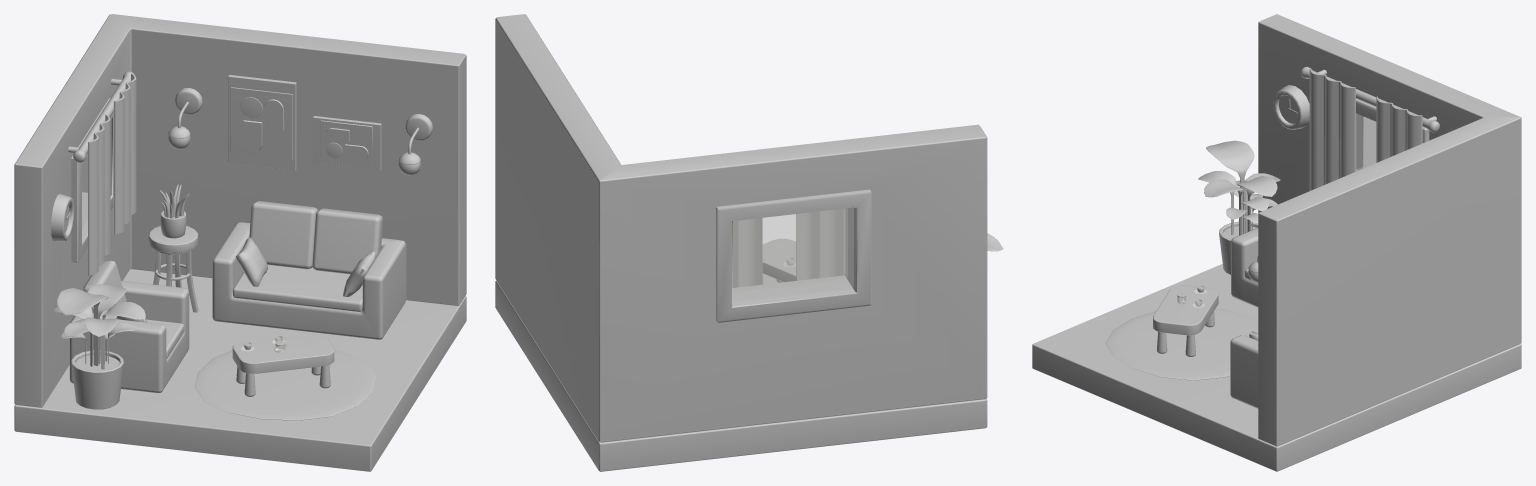
The model's file is Living_Room_3.fbx.
3 views of the same model, side by side, from view 1: azimuth 30°, elevation 25°; view 2: azimuth 150°, elevation 25°; view 3: azimuth 270°, elevation 25° (orthographic). The views are drawn at different scales.
Visible parts, largest first — view 1: Room_3_Wall, Room_3_Floor, Room_3_Couch, Room_3_Carpet, Room_3_Armchair, Room_3_Curtains, Room_3_Plant_2, Room_3_Painting_1, Room_3_Table, Room_3_Painting_2, Room_3_Chair, Room_3_Window (+6 smaller); view 2: Room_3_Wall, Room_3_Window, Room_3_Floor, Room_3_Curtains, Room_3_Table; view 3: Room_3_Wall, Room_3_Floor, Room_3_Curtains, Room_3_Carpet, Room_3_Plant_2, Room_3_Table, Room_3_Couch, Room_3_Armchair, Room_3_Window, Room_3_Clock.
Part boxes in pixels (box(x1,y1,x2,y2)): Room_3_Wall: box(14, 14, 466, 407); Room_3_Floor: box(14, 269, 466, 471); Room_3_Couch: box(212, 201, 406, 339); Room_3_Carpet: box(194, 350, 375, 420); Room_3_Armchair: box(69, 260, 189, 392); Room_3_Curtains: box(68, 71, 136, 275); Room_3_Plant_2: box(54, 284, 145, 409); Room_3_Painting_1: box(228, 75, 296, 170); Room_3_Table: box(232, 334, 334, 396); Room_3_Painting_2: box(313, 116, 381, 171); Room_3_Chair: box(148, 226, 198, 312); Room_3_Window: box(71, 98, 113, 263); Room_3_Wall: box(495, 14, 987, 442); Room_3_Window: box(716, 189, 871, 322); Room_3_Floor: box(495, 280, 987, 471); Room_3_Curtains: box(732, 208, 845, 287); Room_3_Table: box(762, 238, 796, 284); Room_3_Wall: box(1258, 14, 1521, 446); Room_3_Floor: box(1032, 264, 1521, 471); Room_3_Curtains: box(1300, 66, 1439, 190); Room_3_Carpet: box(1105, 308, 1258, 380); Room_3_Plant_2: box(1198, 140, 1280, 274); Room_3_Table: box(1153, 285, 1218, 356); Room_3_Couch: box(1230, 335, 1258, 408); Room_3_Armchair: box(1231, 197, 1294, 307); Room_3_Window: box(1356, 98, 1429, 171); Room_3_Clock: box(1273, 85, 1309, 129).
Bounding box in the file's own units: 704 × 400 × 704.
